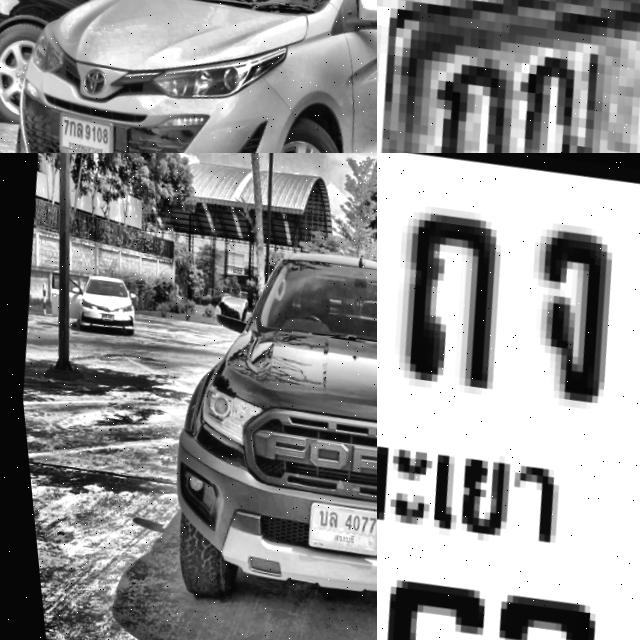license-plate: (377, 153, 640, 640), (291, 497, 377, 562), (38, 101, 117, 153)
